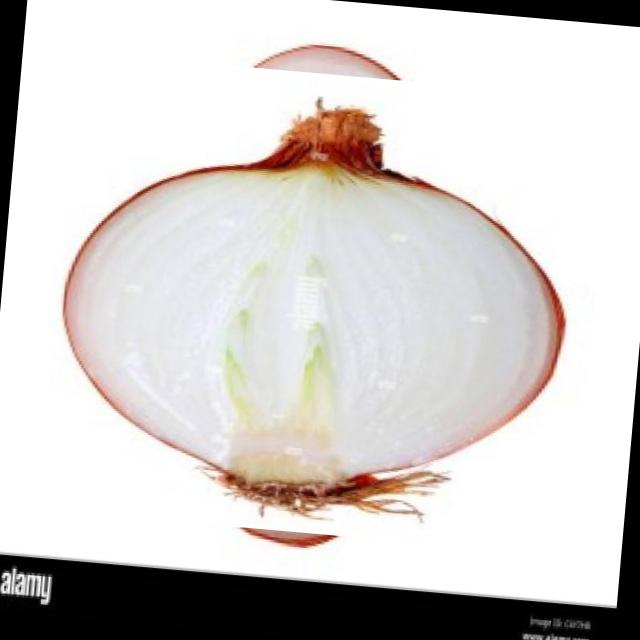Onion: (49, 32, 594, 576)
